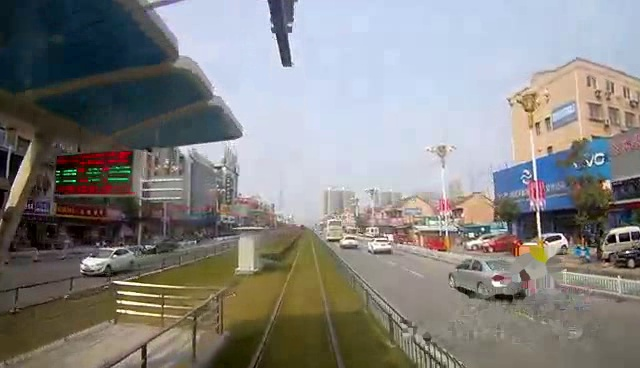car: (445, 253, 530, 301), (78, 244, 138, 279), (368, 234, 395, 253)
